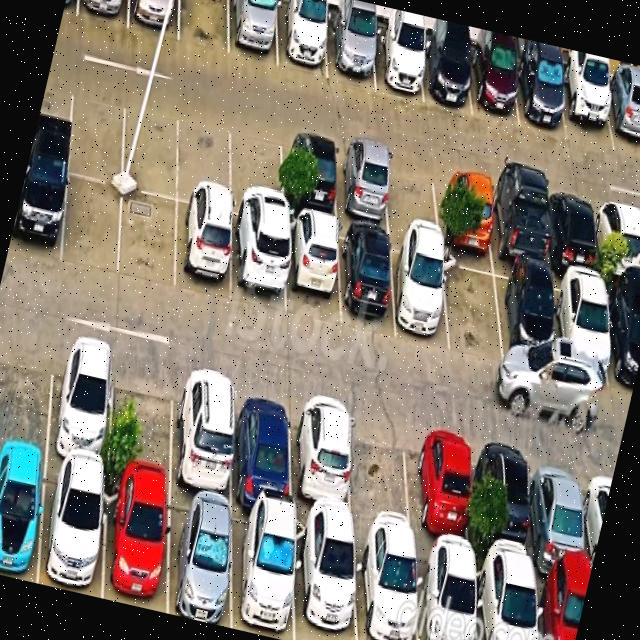empty: (109, 349, 174, 488), (349, 406, 414, 544), (0, 323, 54, 456), (442, 251, 502, 363), (122, 93, 181, 199), (61, 175, 122, 276), (67, 79, 125, 184), (119, 188, 177, 292), (230, 117, 282, 225), (177, 106, 230, 211), (385, 151, 439, 238), (178, 0, 228, 54)
occupied: (46, 334, 113, 472), (38, 461, 105, 598), (167, 490, 231, 628), (103, 476, 167, 613), (171, 364, 234, 502), (231, 505, 293, 640), (292, 392, 352, 528), (412, 418, 470, 557), (232, 378, 291, 513), (532, 444, 589, 580), (295, 519, 356, 640), (550, 269, 611, 385), (482, 433, 534, 569), (493, 261, 555, 370), (354, 535, 418, 640), (390, 237, 449, 350), (7, 160, 68, 264), (339, 225, 395, 335), (0, 451, 46, 583), (285, 214, 339, 325), (415, 545, 477, 640), (175, 202, 230, 302), (489, 174, 547, 267), (231, 216, 284, 315), (475, 558, 537, 640), (437, 163, 493, 253), (282, 130, 337, 219), (558, 65, 614, 151), (336, 141, 390, 229), (546, 186, 598, 272), (516, 52, 567, 139), (603, 280, 640, 396), (469, 43, 519, 126), (419, 35, 471, 114), (276, 0, 327, 78), (372, 24, 423, 102), (595, 195, 640, 281), (534, 570, 589, 640), (327, 14, 374, 88), (228, 0, 277, 67), (602, 74, 640, 157), (127, 0, 179, 40), (77, 0, 129, 28)
